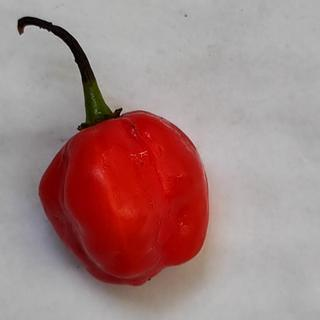Grade-B: (35, 106, 212, 285)
